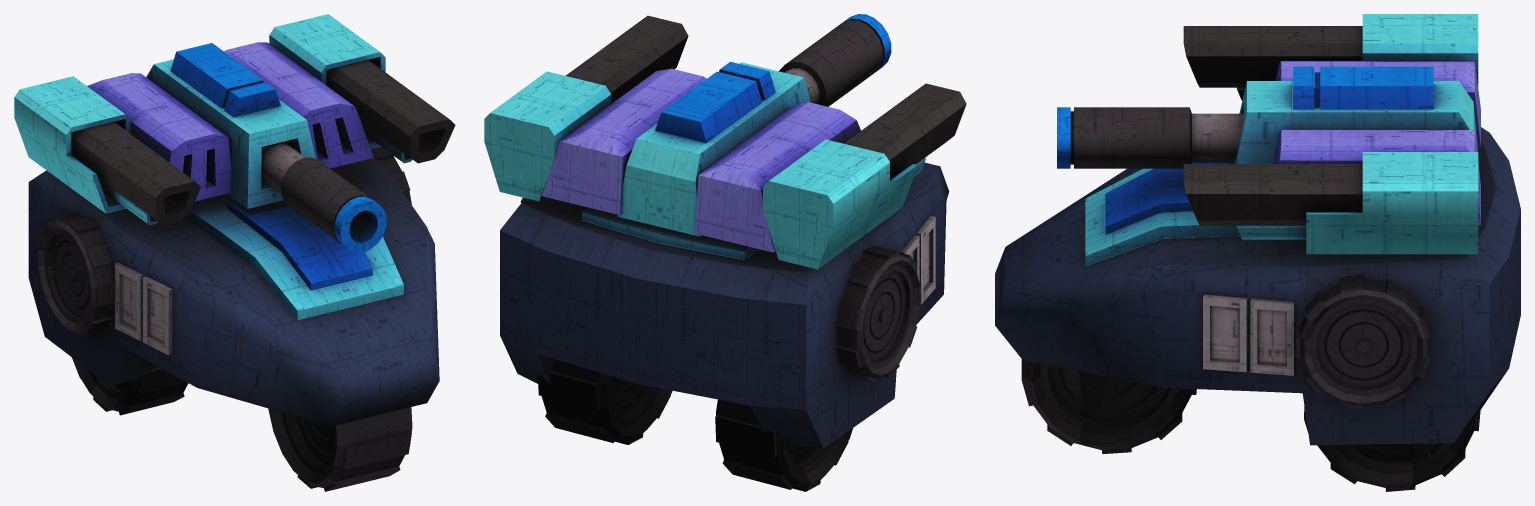
The model's file is PlayerA4.obj.
3 views of the same model, side by side, from view 1: azimuth 30°, elevation 25°; view 2: azimuth 150°, elevation 25°; view 3: azimuth 270°, elevation 25° (orthographic). The views are drawn at different scales.
Visible parts, largest first — view 1: Object001, Object002, Object004, Object003; view 2: Object001, Object002, Object003; view 3: Object001, Object002, Object004, Object003.
Part boxes in pixels (x1=…): Object001: x1=28, y1=42, x2=439, y2=426; Object002: x1=14, y1=14, x2=455, y2=225; Object004: x1=268, y1=407, x2=412, y2=491; Object003: x1=72, y1=357, x2=188, y2=415; Object001: x1=500, y1=14, x2=949, y2=448; Object002: x1=484, y1=15, x2=966, y2=269; Object003: x1=538, y1=359, x2=852, y2=491; Object001: x1=995, y1=61, x2=1520, y2=445; Object002: x1=1183, y1=14, x2=1478, y2=254; Object004: x1=1021, y1=359, x2=1196, y2=454; Object003: x1=1304, y1=406, x2=1480, y2=491.
Size of the model in its own units: 93.13 by 89.9 by 119.
Materials: 1 (1 with a texture image).
